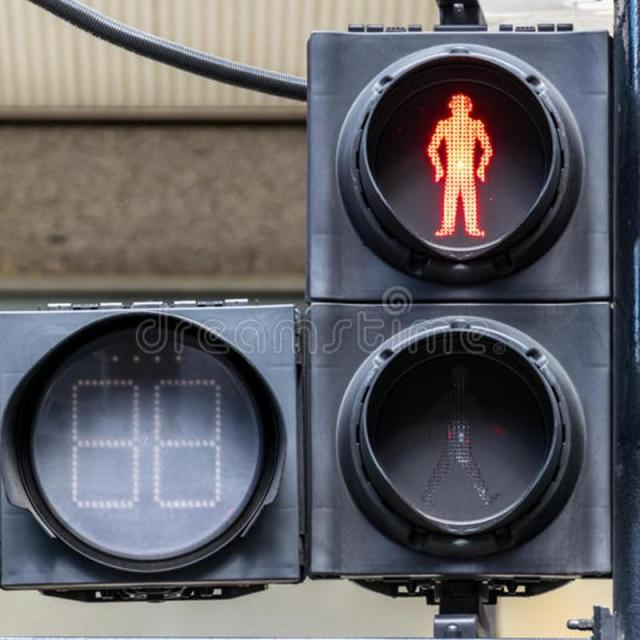red_light: (330, 46, 594, 279)
